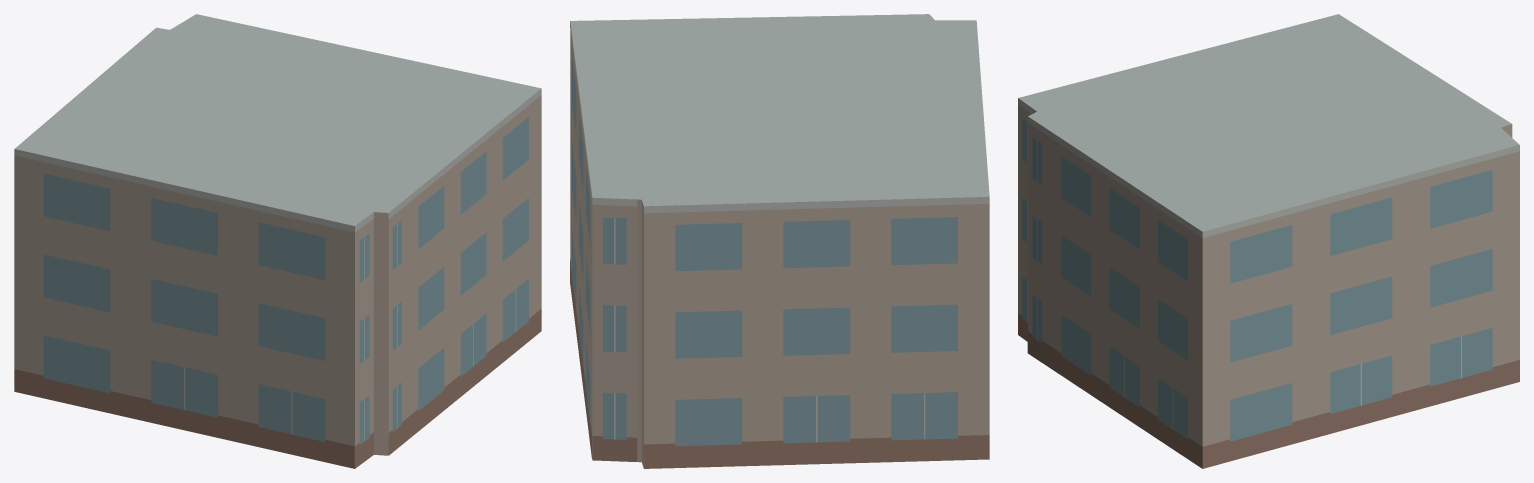
Rendered from survey-upis-32928392.glb.
The picture shows the model from 3 angles, left to right: view 1: azimuth 30°, elevation 25°; view 2: azimuth 150°, elevation 25°; view 3: azimuth 270°, elevation 25°; orthographic projection. The views are drawn at different scales.
Visible parts, largest first — view 1: survey-upis-32928392.tmp; view 2: survey-upis-32928392.tmp; view 3: survey-upis-32928392.tmp.
Part boxes in pixels (x1,y1,x2,y2): survey-upis-32928392.tmp: (14, 14, 541, 468); survey-upis-32928392.tmp: (570, 14, 989, 468); survey-upis-32928392.tmp: (1018, 14, 1519, 468).
Size of the model in its own units: 18.05 by 9.15 by 17.57.
